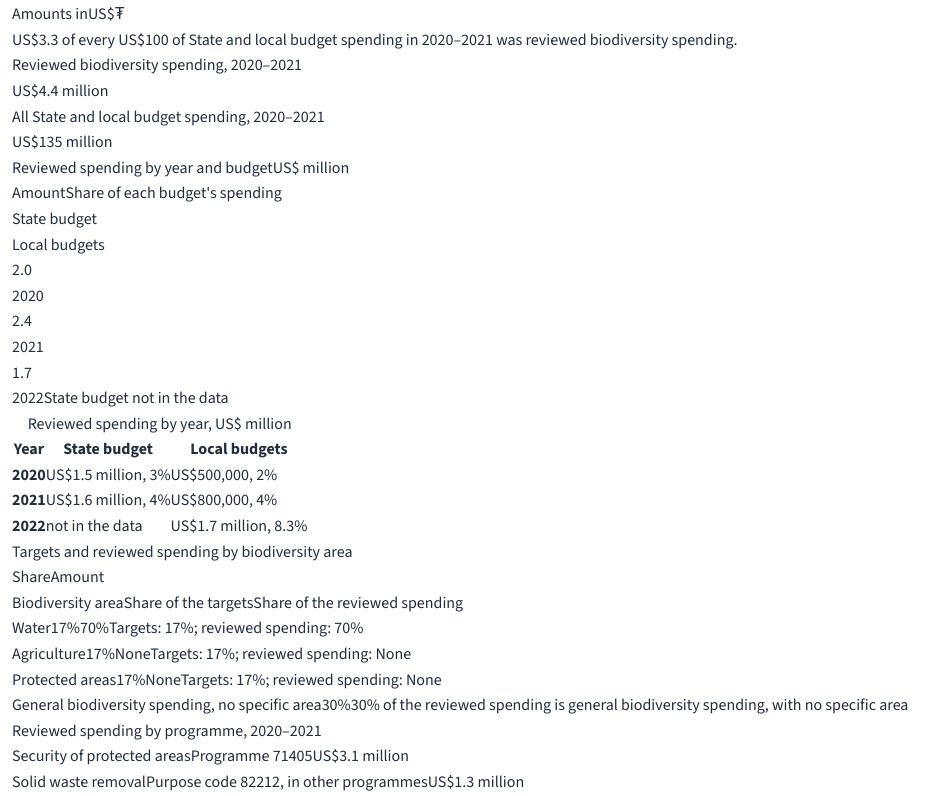
SpendingSection, a rebuilt record › says what a line pays for in a sentence, abbreviations kept, the names set apart
(page scrolled)
Click the button that starts with "Security of protected areas" at (210, 757), box [12, 744, 409, 770]
(page scrolled)
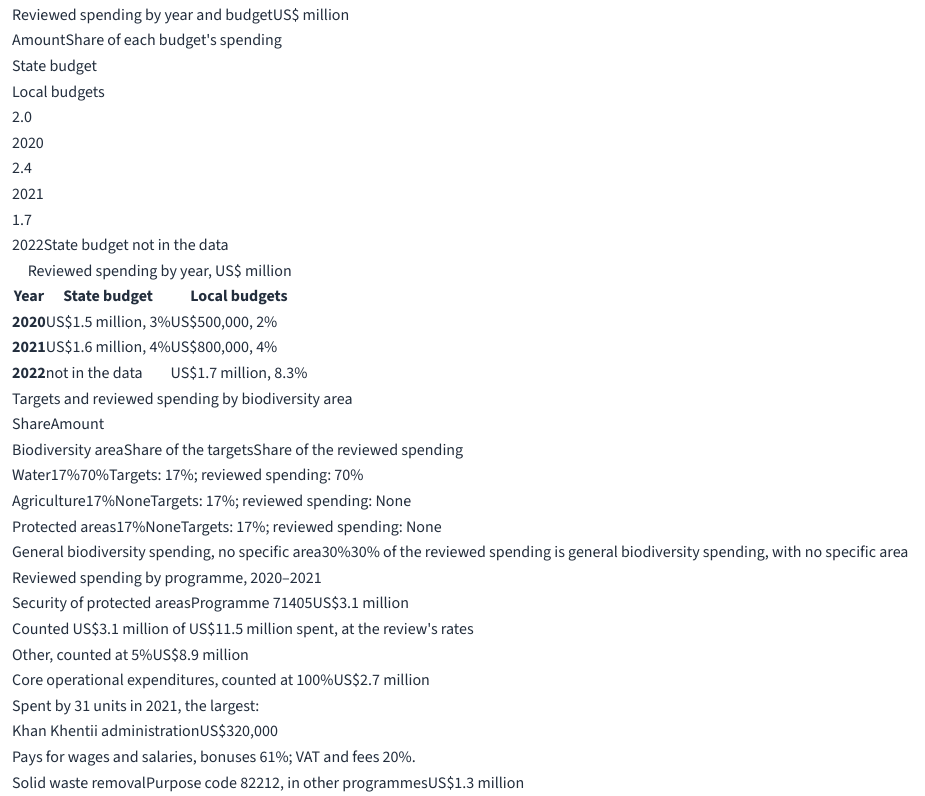
Check: the text "Pays for wages and salaries, bonuses 61%; VAT and fees 20%." is shown, box [12, 746, 416, 768]
